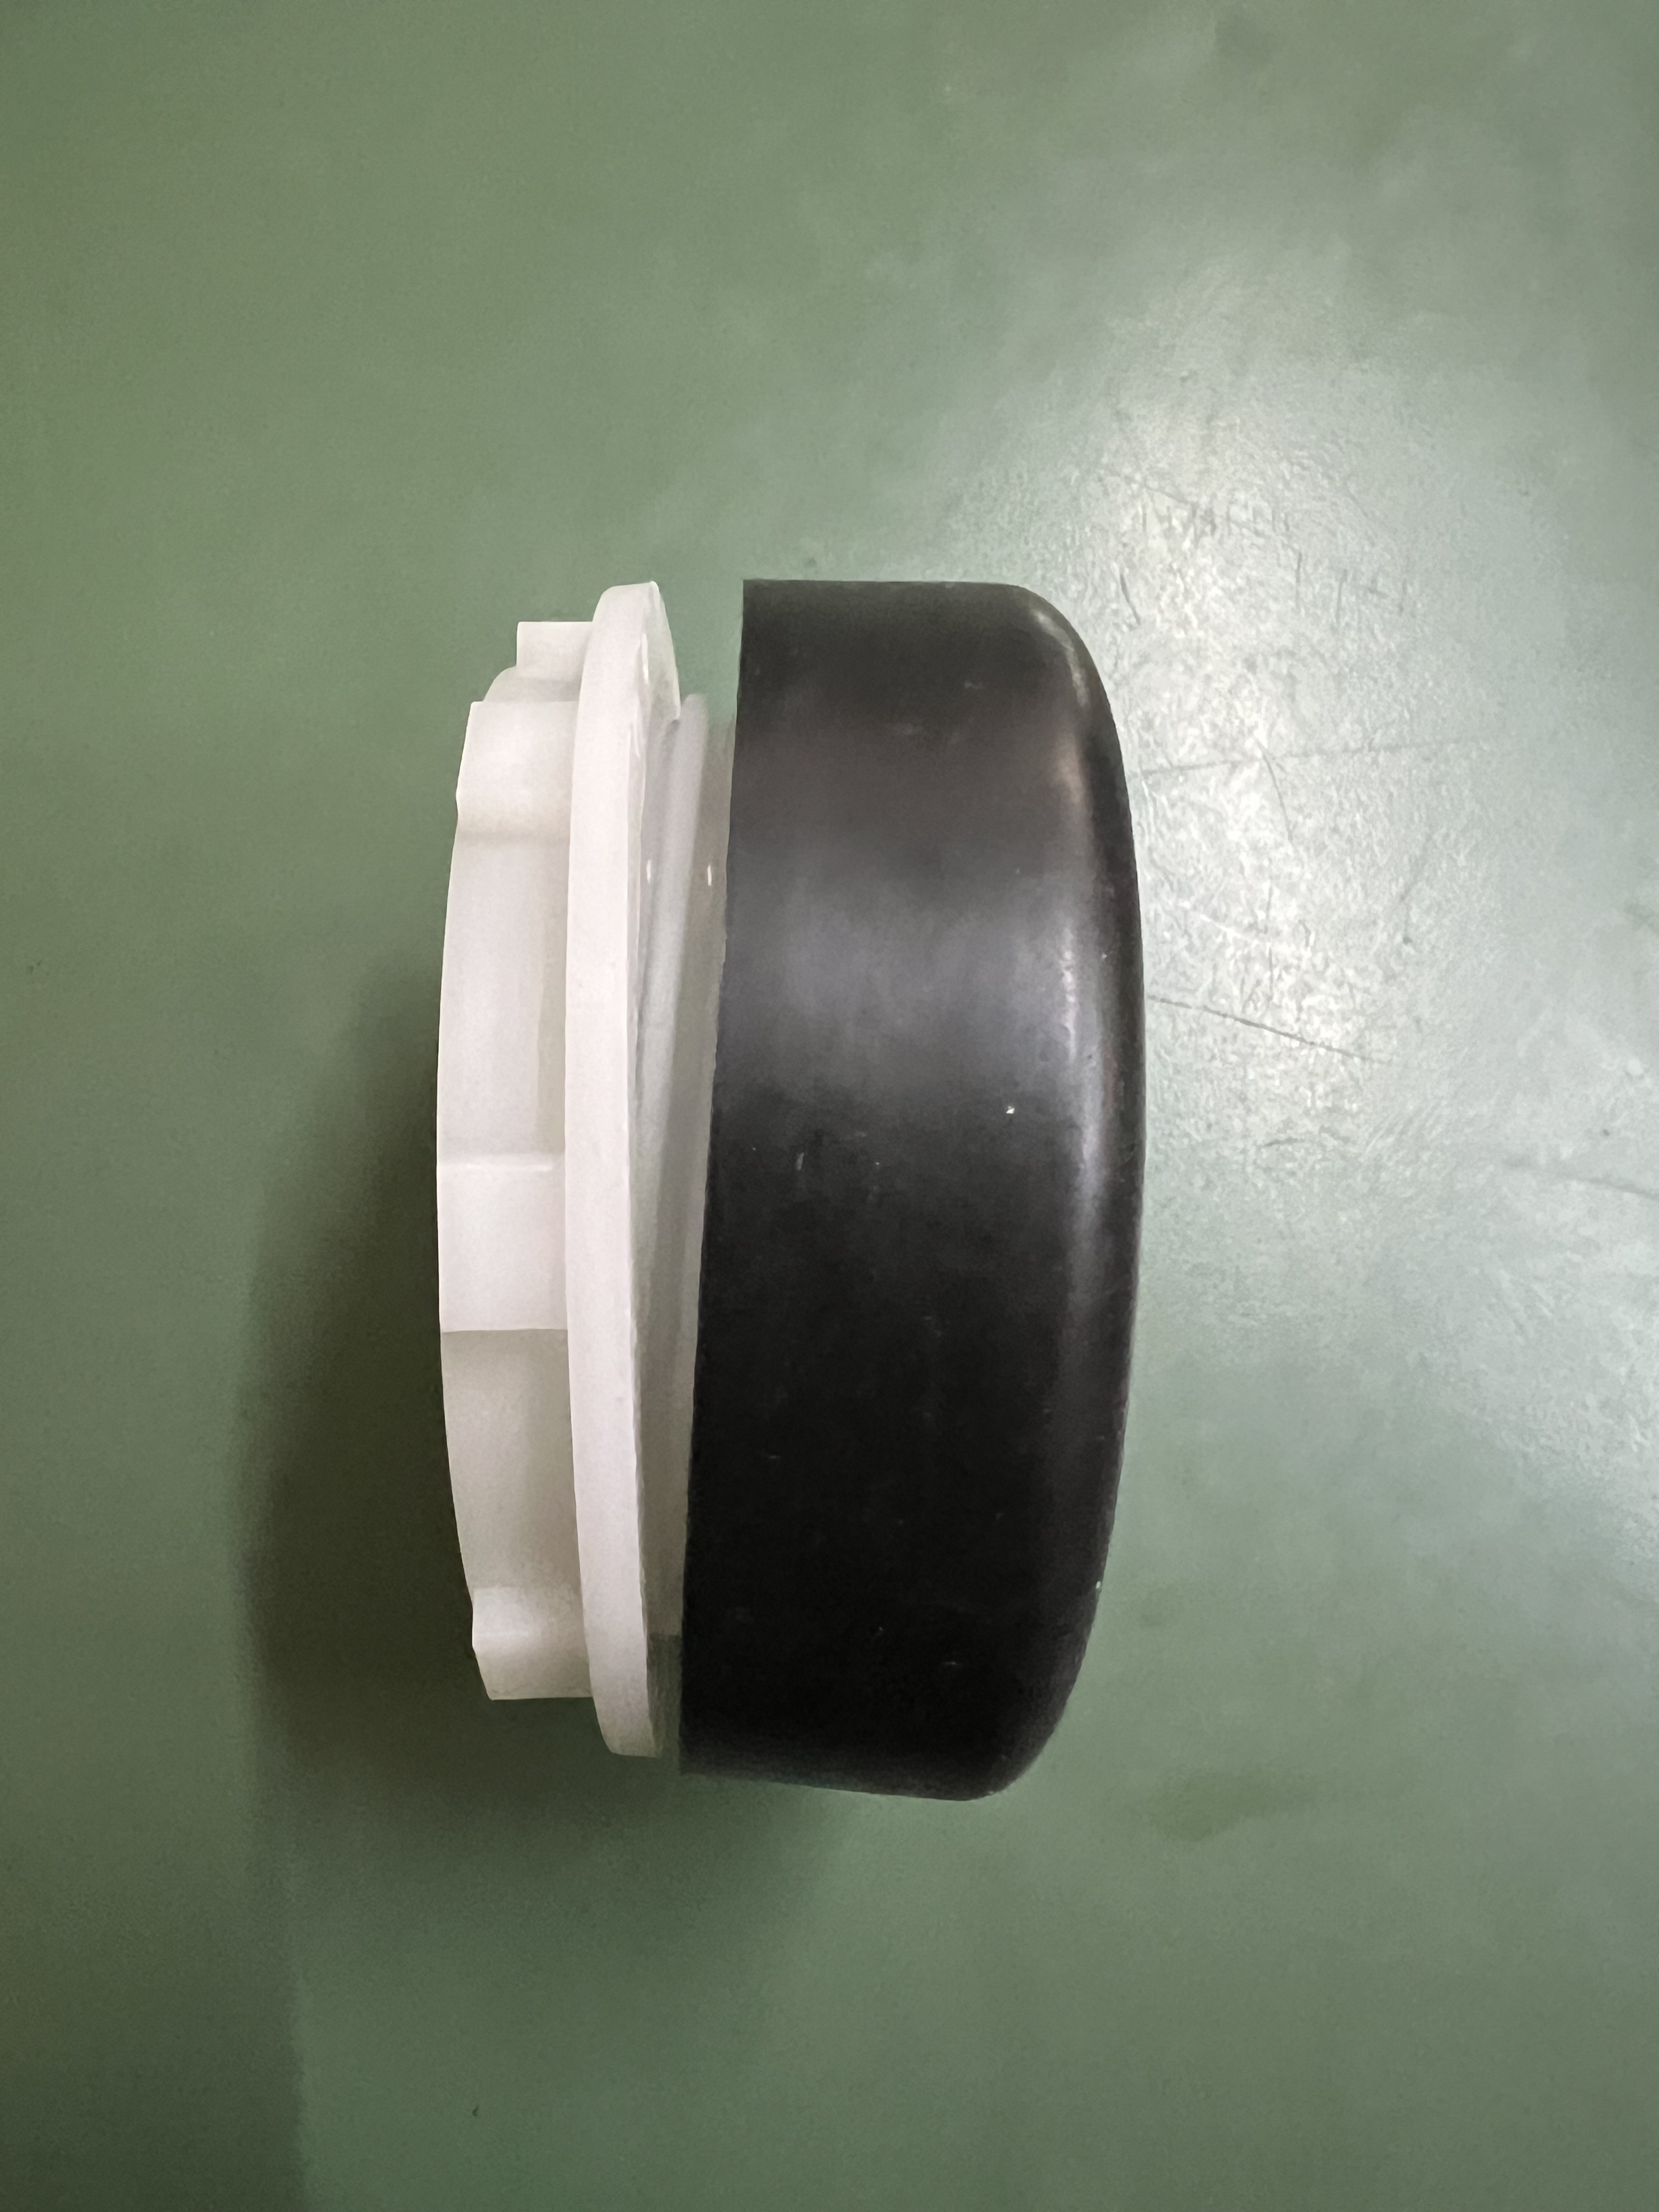lever: (423, 549, 1161, 1820)
